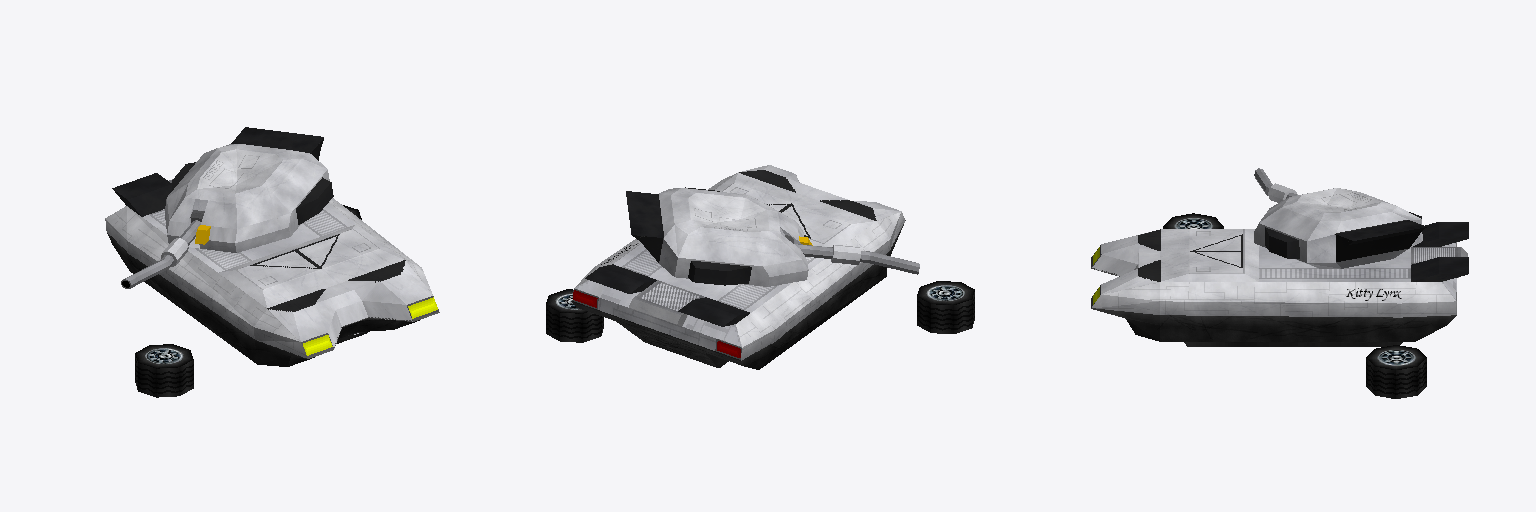
3 views of the same model, side by side, from view 1: azimuth 30°, elevation 25°; view 2: azimuth 150°, elevation 25°; view 3: azimuth 270°, elevation 25° (orthographic).
Visible parts, largest first — view 1: turret, wheels1_sep22; view 2: turret, wheels1_sep22, wheels1; view 3: turret, wheels1, wheels1_sep22.
Part boxes in pixels (left/top/right/bottom): turret: left=105, top=127, right=439, bottom=366; wheels1_sep22: left=135, top=344, right=193, bottom=397; turret: left=572, top=165, right=919, bottom=369; wheels1_sep22: left=917, top=281, right=974, bottom=333; wheels1: left=546, top=289, right=603, bottom=342; turret: left=1091, top=168, right=1468, bottom=346; wheels1: left=1366, top=345, right=1426, bottom=398; wheels1_sep22: left=1163, top=213, right=1223, bottom=228.
Size of the model in its own units: 43.93 by 17.65 by 44.74.
Materials: 1 (1 with a texture image).